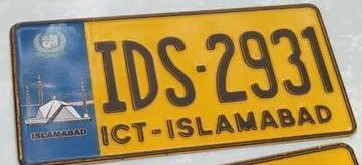1: (303, 25, 336, 95)
2: (206, 33, 248, 104)
3: (270, 27, 313, 97)
9: (239, 28, 280, 101)
A: (214, 113, 235, 136), (295, 105, 316, 127), (258, 108, 278, 131)
B: (277, 106, 296, 130)
C: (111, 124, 132, 144)
D: (121, 36, 158, 112), (315, 102, 333, 125)
I: (92, 39, 126, 114), (163, 119, 176, 139), (99, 124, 110, 146)
L: (194, 114, 215, 138)
M: (234, 110, 259, 134)
S: (155, 33, 196, 108), (175, 117, 195, 139)
T: (131, 120, 148, 144)
